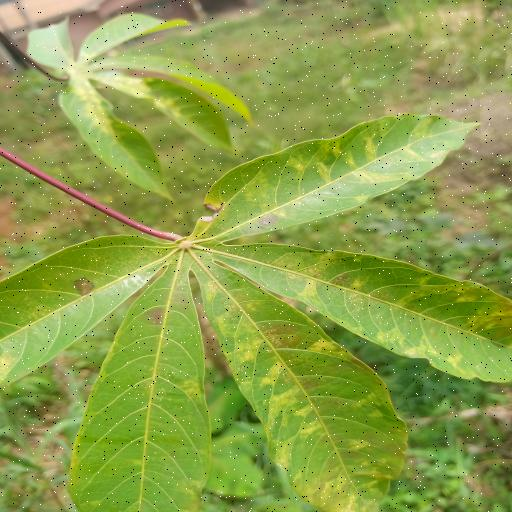Cassava_Mosaic: (0, 113, 510, 512), (28, 10, 260, 204)
